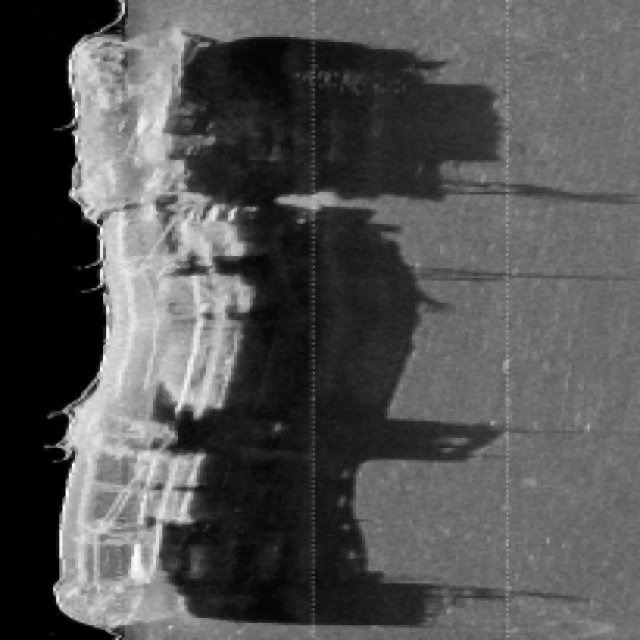Ship: (33, 14, 319, 640)
